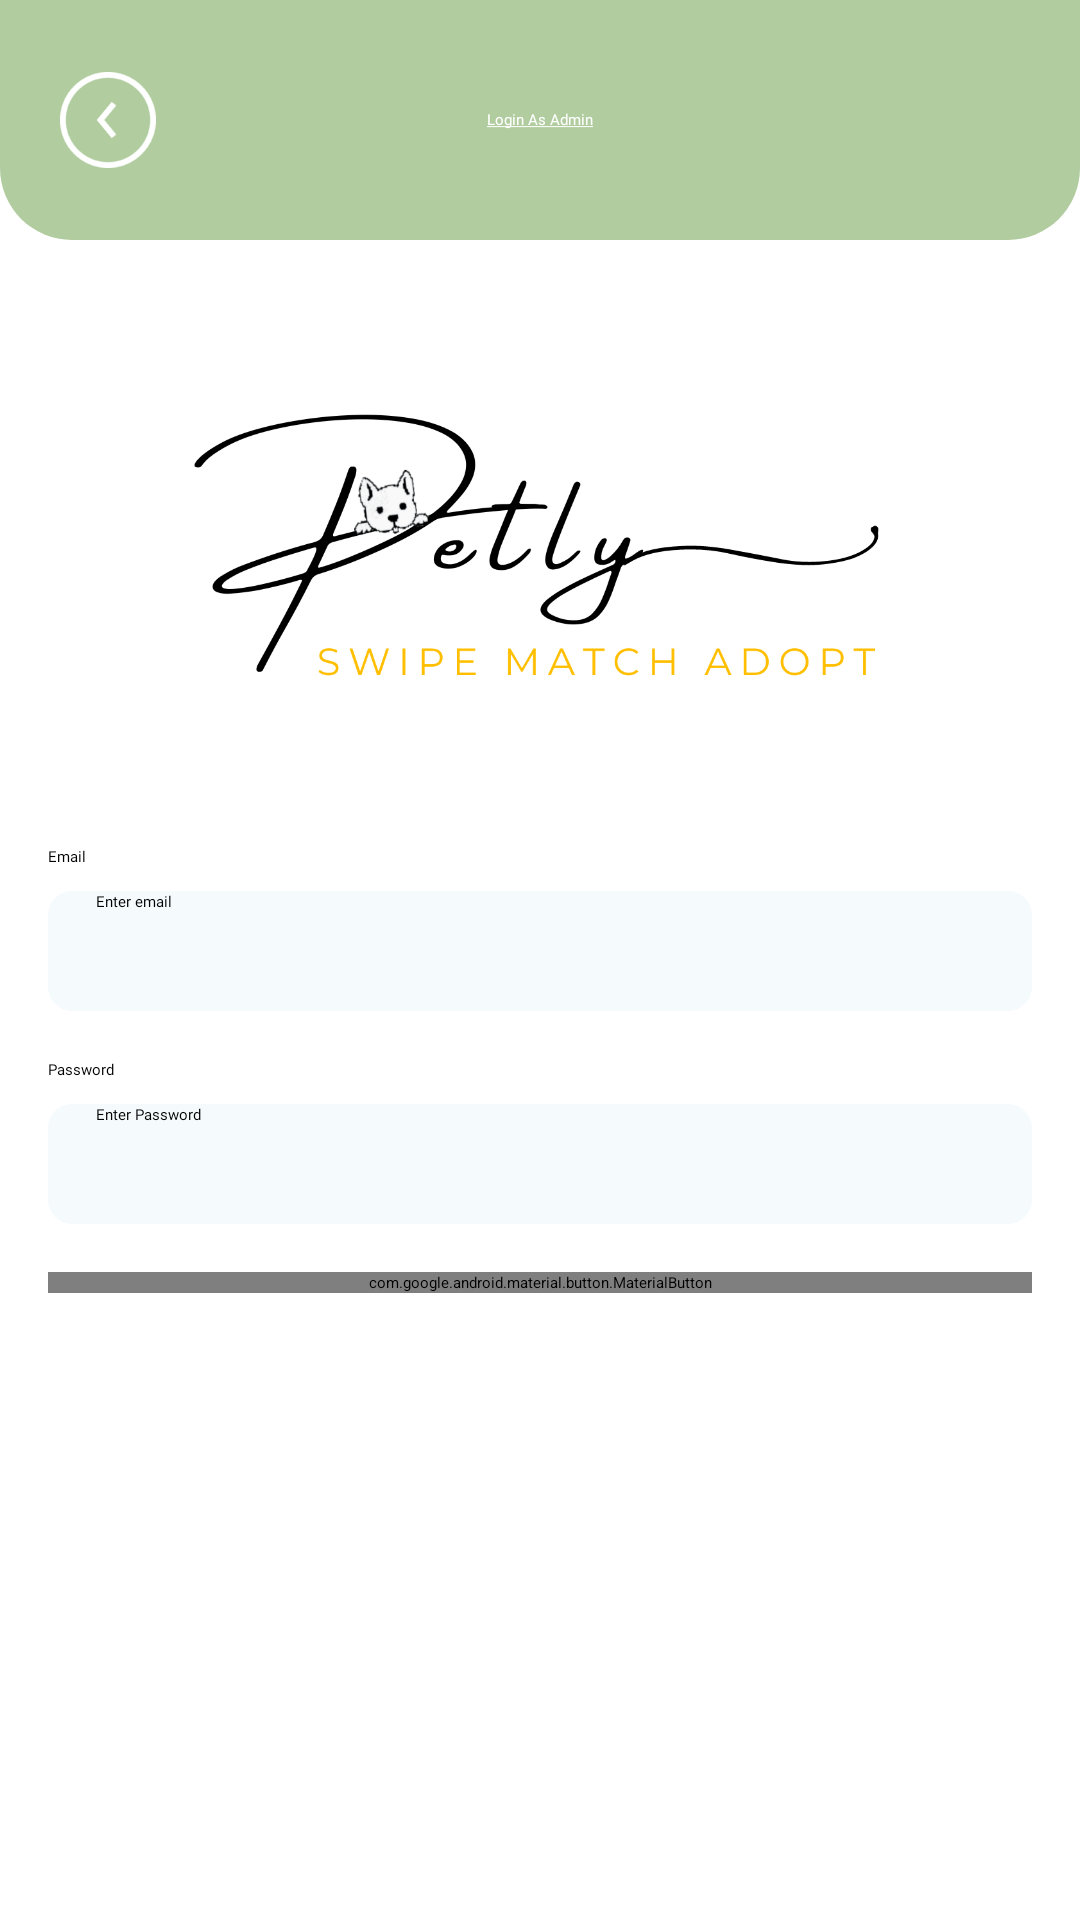

Where to tap for icons on this 1080 × 1920 app screen, as (x,y):
back: (108,120)
